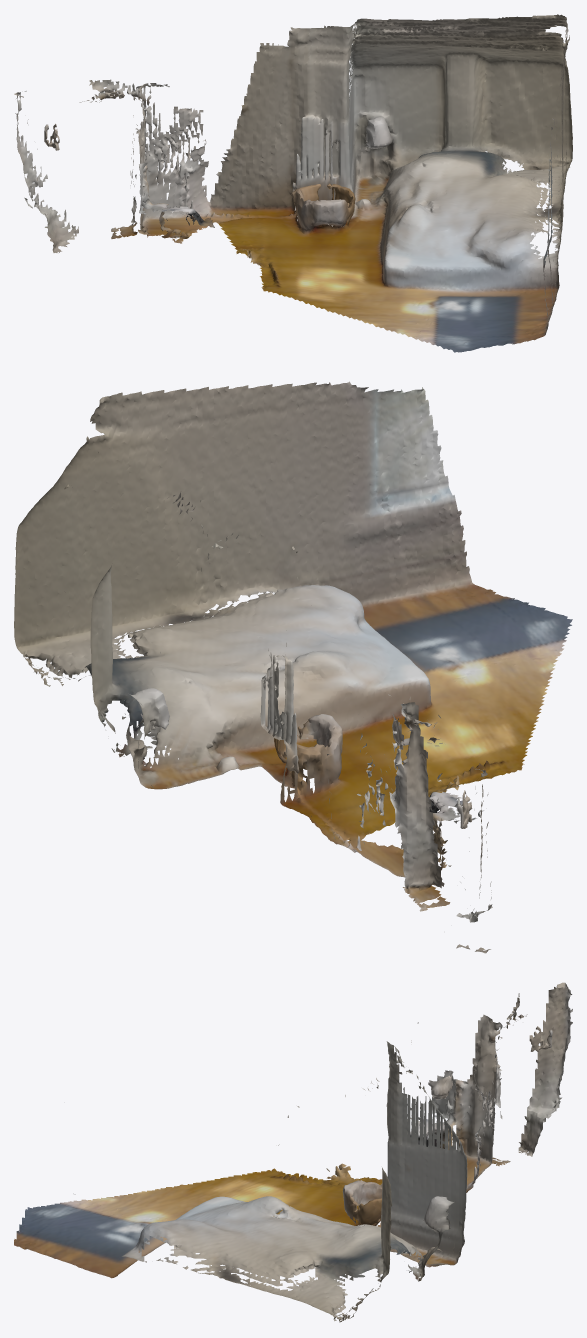
File: scan-29f7f6d66abf.glb
3 renders of one model, top to bottom at view 1: azimuth 30°, elevation 25°; view 2: azimuth 150°, elevation 25°; view 3: azimuth 270°, elevation 25°, orthographic. The views are drawn at different scales.
Bounding box in the file's own units: 4.06 × 1.94 × 4.12.
